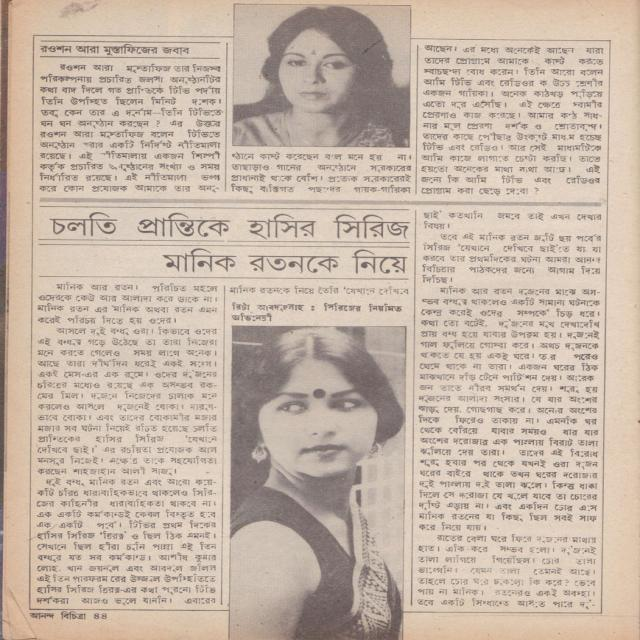caption: (228, 300, 409, 324)
image: (231, 327, 404, 640), (231, 3, 409, 146)
page number: (94, 613, 108, 620)
paragraph: (413, 284, 604, 532), (418, 41, 608, 199), (33, 326, 221, 477), (34, 62, 226, 195), (32, 477, 221, 606), (412, 533, 600, 610), (417, 232, 605, 285), (35, 280, 222, 326), (229, 150, 415, 196), (422, 208, 604, 231), (227, 282, 414, 298)
text: (28, 611, 87, 620)
title: (39, 209, 414, 277), (37, 41, 192, 58)
